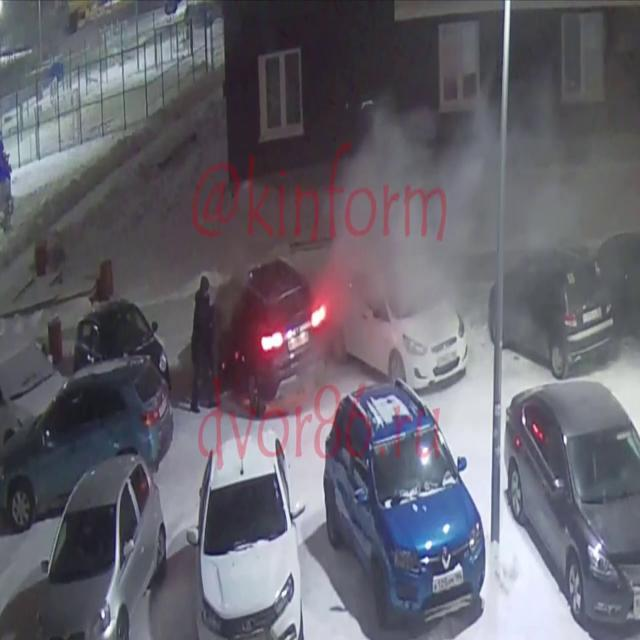Smoke: (320, 35, 634, 368)
